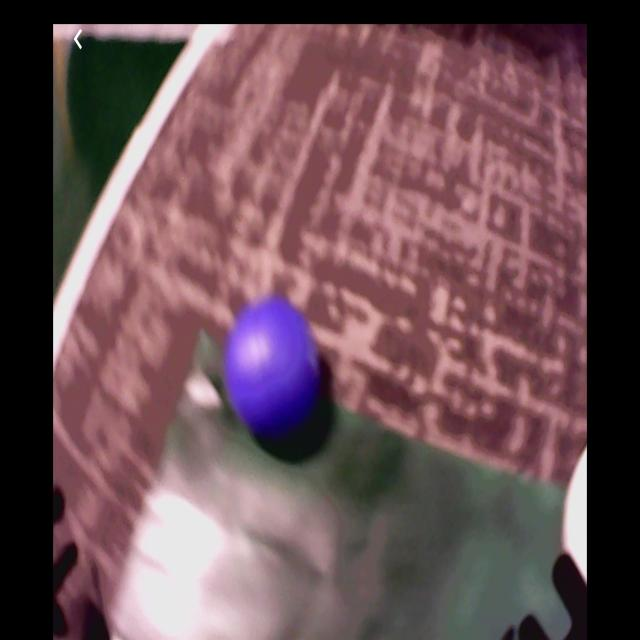ball: (229, 297, 324, 450)
